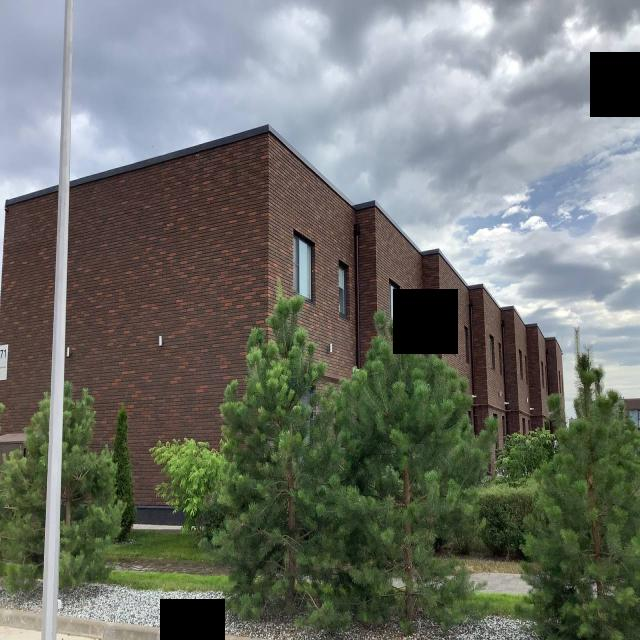Building: (0, 126, 568, 518)
